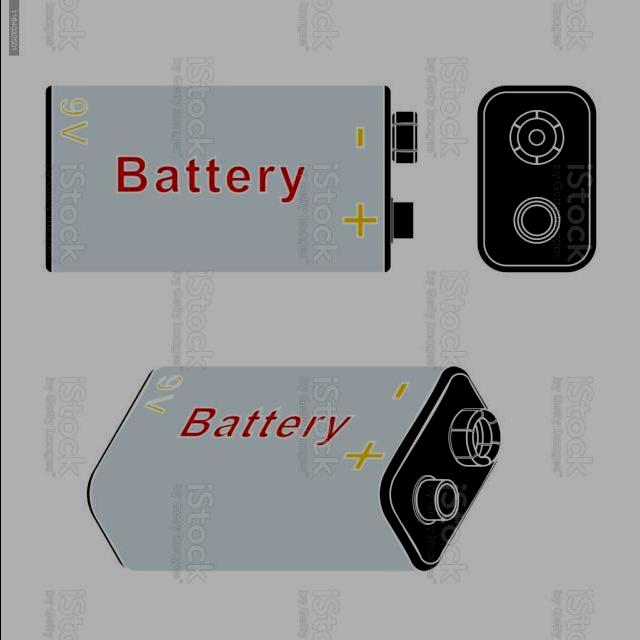9V: (70, 344, 520, 590), (24, 63, 438, 285), (462, 71, 610, 286)
